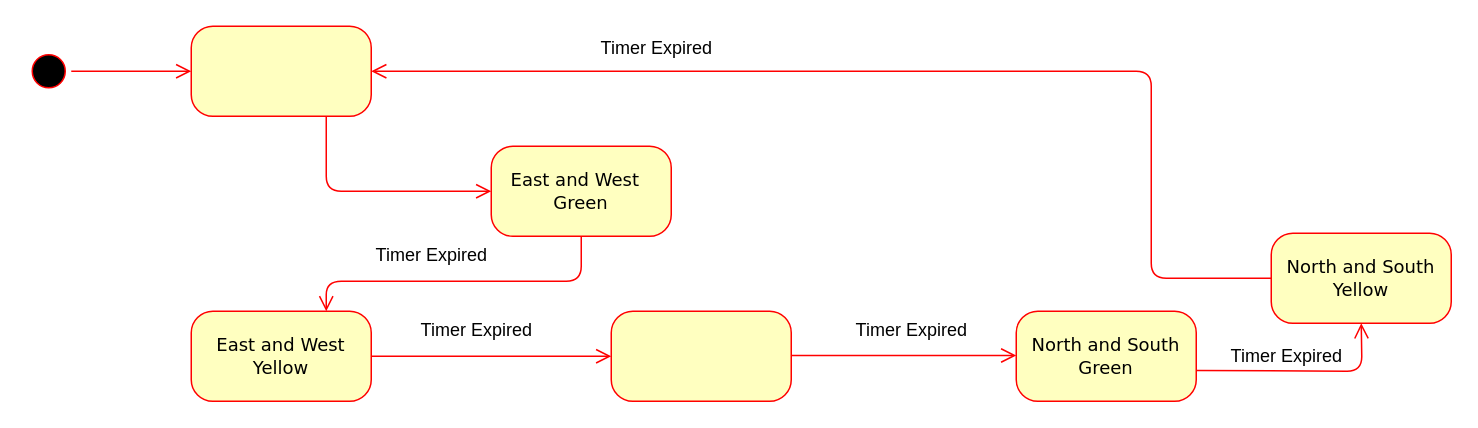
This 1478x428 diagram has some shape labels left out. The box of each missing label's shape, as (x1, y1, x2, y2) in pixels:
East and West Red: (610, 310, 791, 401)
North and South Red: (190, 25, 371, 116)
